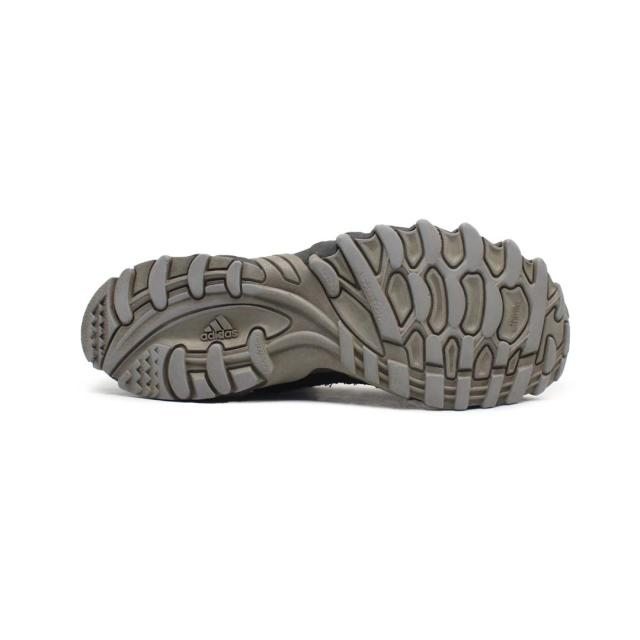outersole: (81, 225, 573, 412)
